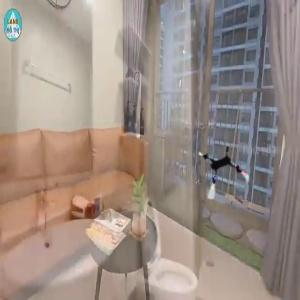drone: (190, 142, 254, 206)
